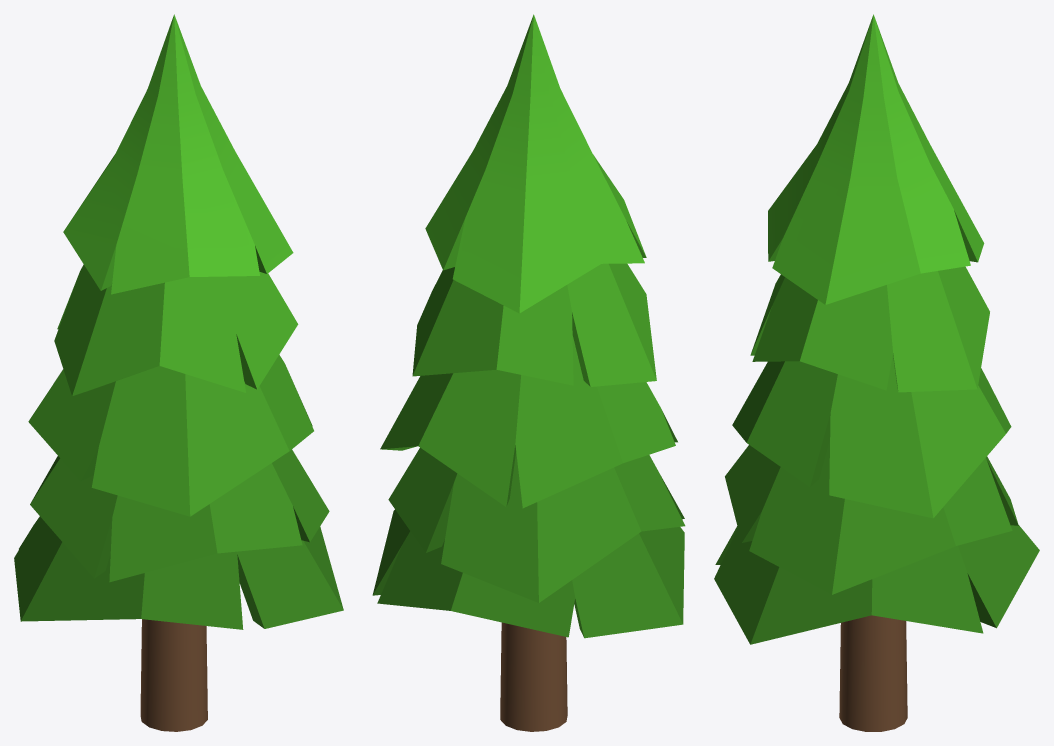
File: Spruce_Green_Thin_3.fbx
3 renders of one model, left to right at view 1: azimuth 30°, elevation 25°; view 2: azimuth 150°, elevation 25°; view 3: azimuth 270°, elevation 25°, orthographic.
Visible parts, largest first — view 1: Cylinder.310, Cylinder.311, Cylinder.312, Cylinder.314, Cylinder.313, Cylinder.315; view 2: Cylinder.310, Cylinder.311, Cylinder.313, Cylinder.312, Cylinder.314, Cylinder.315; view 3: Cylinder.310, Cylinder.311, Cylinder.313, Cylinder.312, Cylinder.314, Cylinder.315.
Part boxes in pixels (x1=…): Cylinder.310: x1=63, y1=14, x2=293, y2=294; Cylinder.311: x1=28, y1=354, x2=313, y2=516; Cylinder.312: x1=54, y1=264, x2=298, y2=396; Cylinder.314: x1=14, y1=516, x2=343, y2=629; Cylinder.313: x1=30, y1=449, x2=329, y2=582; Cylinder.315: x1=140, y1=619, x2=207, y2=731; Cylinder.310: x1=425, y1=14, x2=646, y2=313; Cylinder.311: x1=380, y1=336, x2=677, y2=508; Cylinder.313: x1=388, y1=447, x2=685, y2=602; Cylinder.312: x1=412, y1=263, x2=656, y2=386; Cylinder.314: x1=372, y1=509, x2=684, y2=638; Cylinder.315: x1=500, y1=622, x2=567, y2=731; Cylinder.310: x1=768, y1=14, x2=984, y2=304; Cylinder.311: x1=732, y1=355, x2=1011, y2=518; Cylinder.313: x1=725, y1=440, x2=1018, y2=594; Cylinder.312: x1=750, y1=266, x2=989, y2=392; Cylinder.314: x1=714, y1=525, x2=1039, y2=644; Cylinder.315: x1=839, y1=615, x2=907, y2=731.
Bounding box in the file's own units: 247 × 567 × 238.
